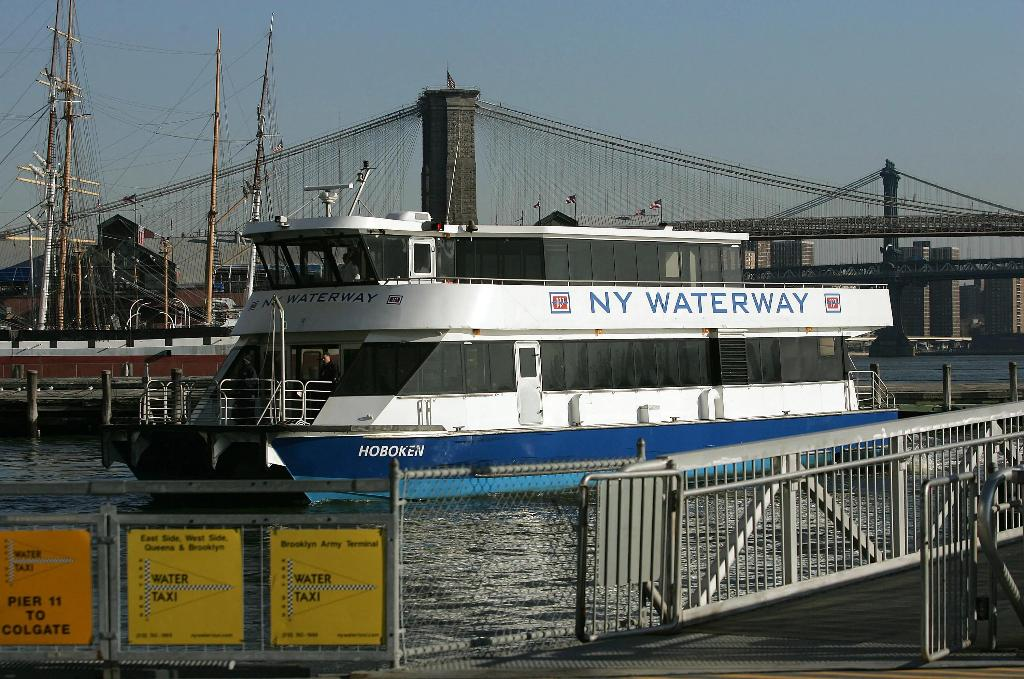PassengerShip: (112, 146, 914, 504)
